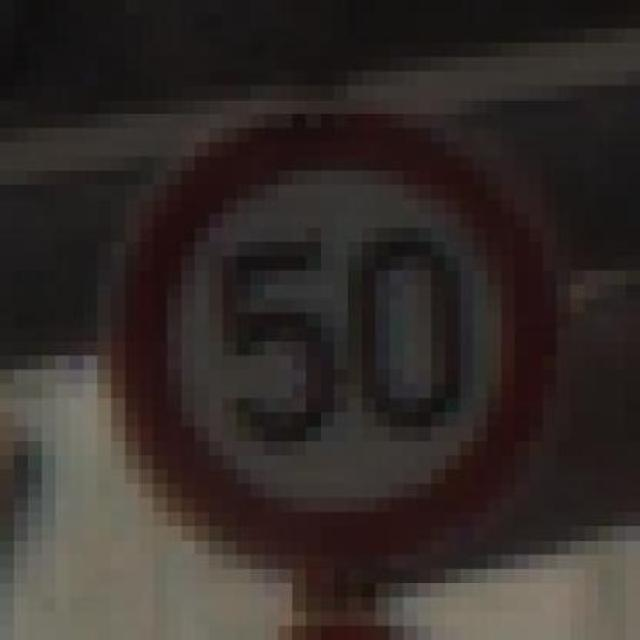50 mph speed limit: (84, 87, 599, 571)
